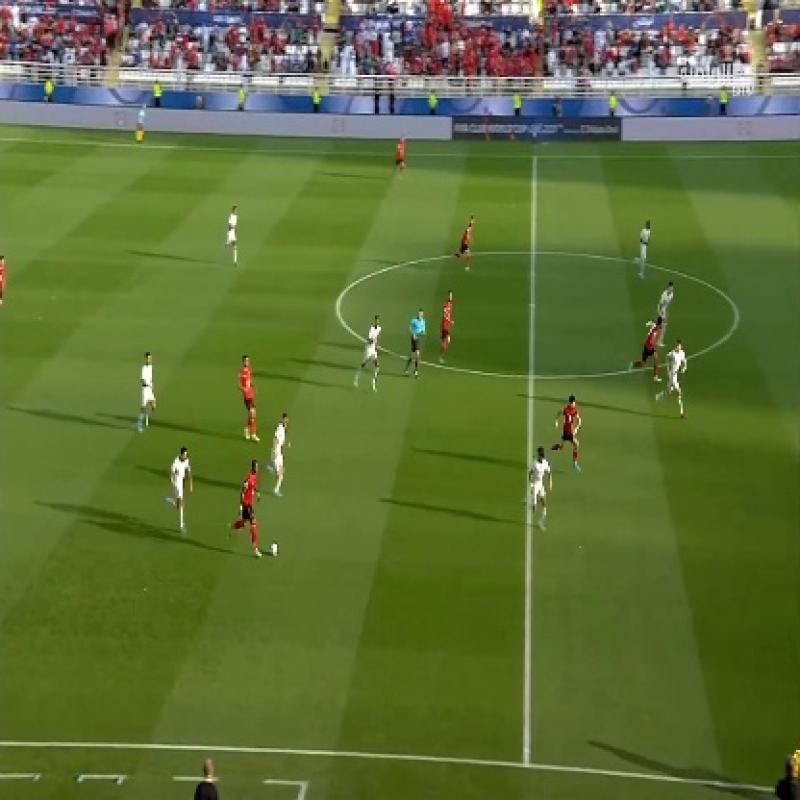13: (524, 144, 542, 168)
14: (519, 236, 546, 266)
15: (518, 358, 544, 394)
16: (507, 736, 546, 785)
c: (320, 290, 354, 324), (720, 302, 752, 334)
